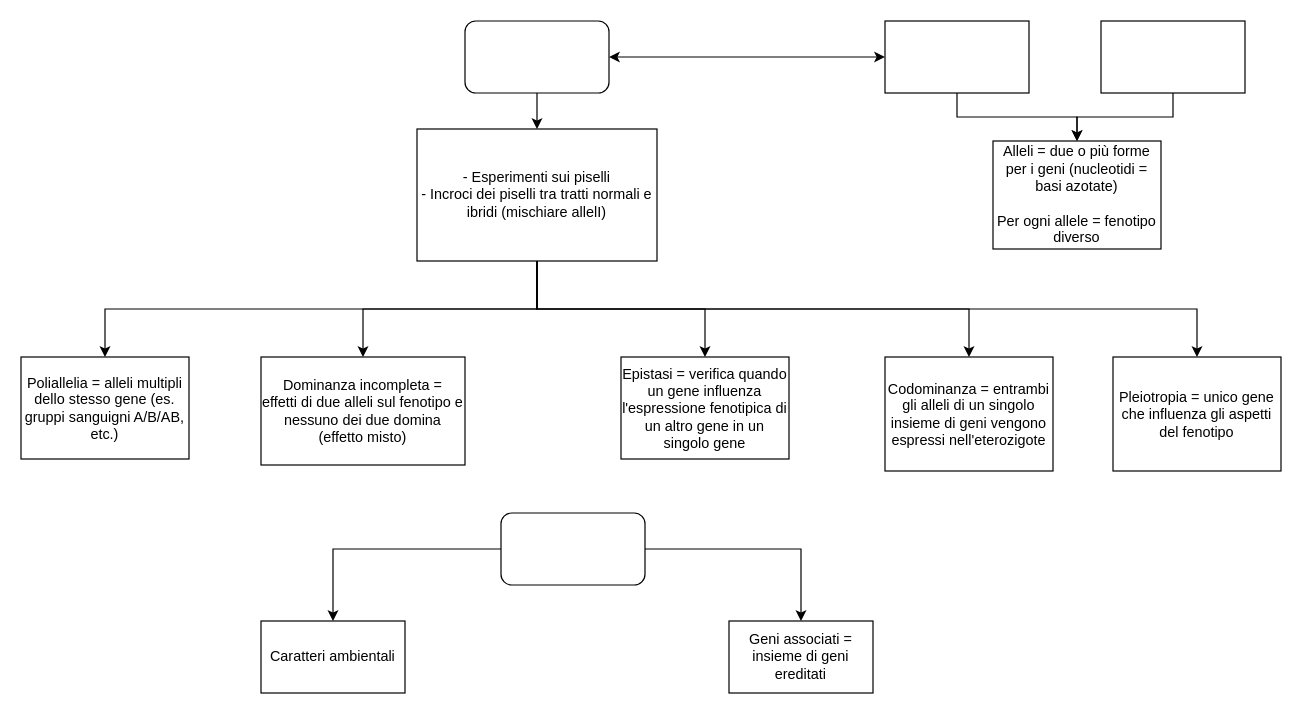
This 1302x714 diagram has some shape labels left out. Each missing label, with the centre of its shape:
Altri caratteri: (x=572, y=548)
Fenotipo = insieme tratti osservabili individuo: (x=956, y=56)
Genotipo = insieme dei geni della specie: (x=1172, y=56)
Leggi di Mendel: (x=536, y=56)
